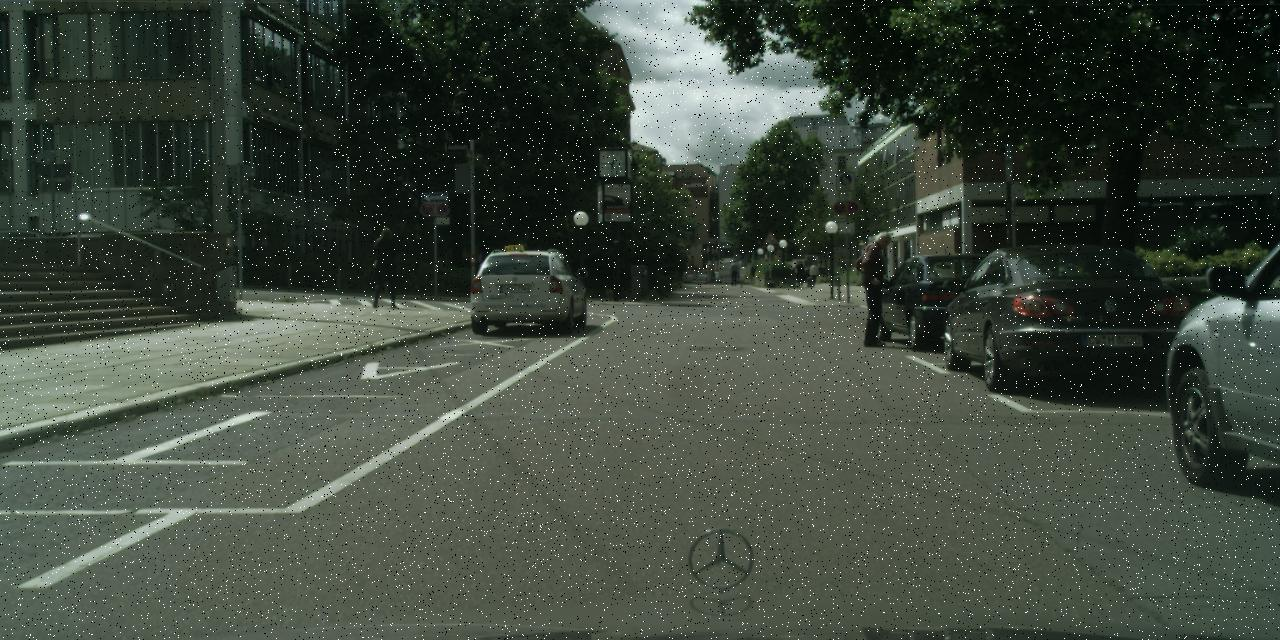ped: (855, 230, 902, 346), (369, 227, 401, 307), (729, 259, 739, 285), (794, 260, 804, 286), (809, 261, 818, 285)
